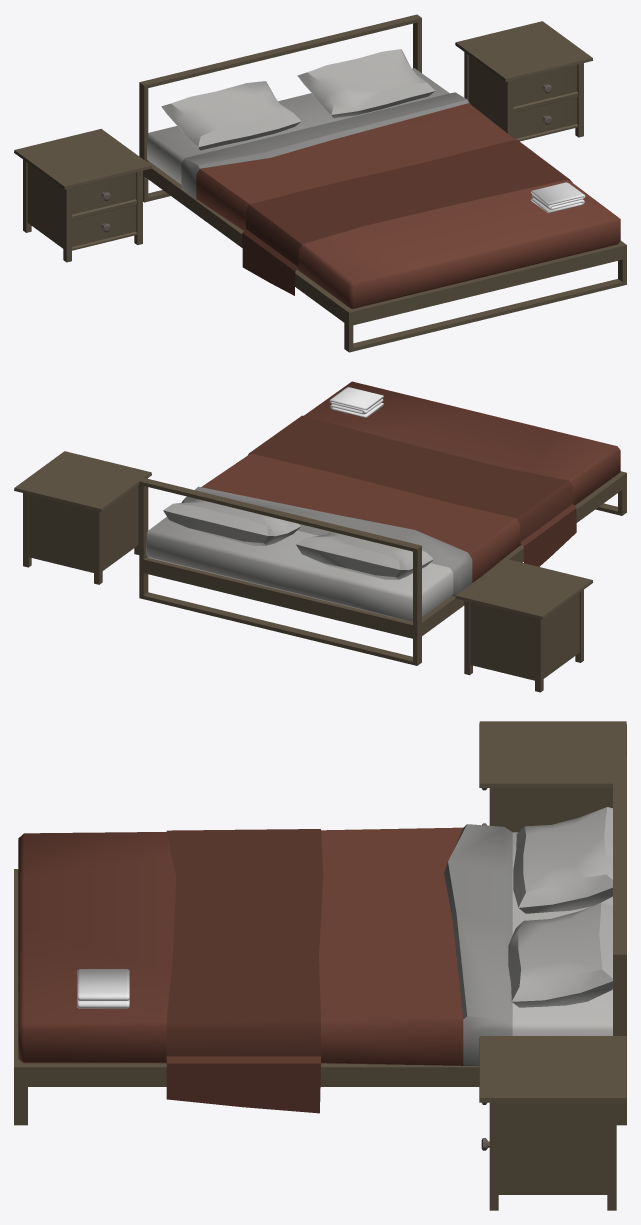
The model's file is BedEtc.fbx.
3 renders of one model, top to bottom at view 1: azimuth 30°, elevation 25°; view 2: azimuth 150°, elevation 25°; view 3: azimuth 270°, elevation 25°, orthographic. The views are drawn at different scales.
Parts seen in each view (by area): view 1: Bed_King, NightStand_3, NightStand_3.001, Group_002; view 2: Bed_King, NightStand_3, NightStand_3.001, Group_002; view 3: Bed_King, NightStand_3.001, NightStand_3, Group_002.
Boxes of the visible parts, x1,y1,x2,y2 form: Bed_King: (139,14,626,352); NightStand_3: (14,128,151,262); NightStand_3.001: (455,21,592,141); Group_002: (531,182,585,213); Bed_King: (139,381,626,665); NightStand_3: (455,559,592,692); NightStand_3.001: (14,451,151,584); Group_002: (329,387,383,417); Bed_King: (14,756,626,1125); NightStand_3.001: (479,1036,626,1210); NightStand_3: (479,721,626,832); Group_002: (77,969,129,1008).
Bounding box in the file's own units: 1.21 × 5.75 × 3.95.
